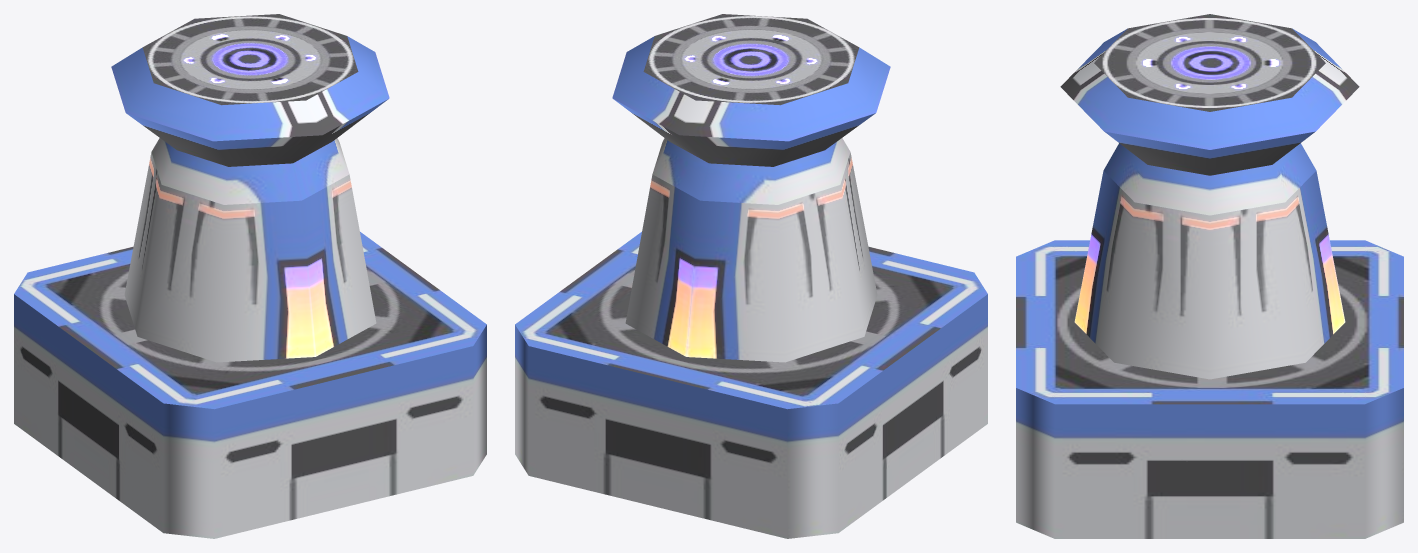
The picture shows the model from 3 angles, left to right: view 1: azimuth 30°, elevation 25°; view 2: azimuth 150°, elevation 25°; view 3: azimuth 270°, elevation 25°; orthographic projection. The views are drawn at different scales.
Parts seen in each view (by area): view 1: smelter-lod2; view 2: smelter-lod2; view 3: smelter-lod2.
Part boxes in pixels (x1,y1,x2,y2): smelter-lod2: (14, 14, 486, 538); smelter-lod2: (515, 14, 987, 538); smelter-lod2: (1016, 14, 1403, 538).
Bounding box in the file's own units: 3 × 3.36 × 3.
1 material, 1 textured.
